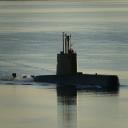submarine: (13, 33, 122, 85)
